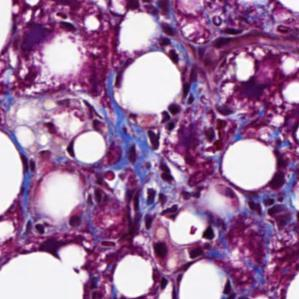inflammation: (136, 157, 206, 224), (146, 100, 185, 153)
